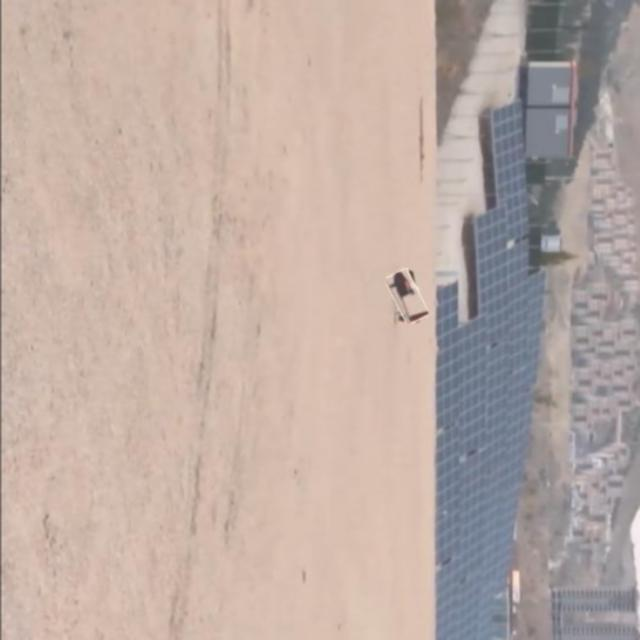plane: (382, 266, 429, 324)
